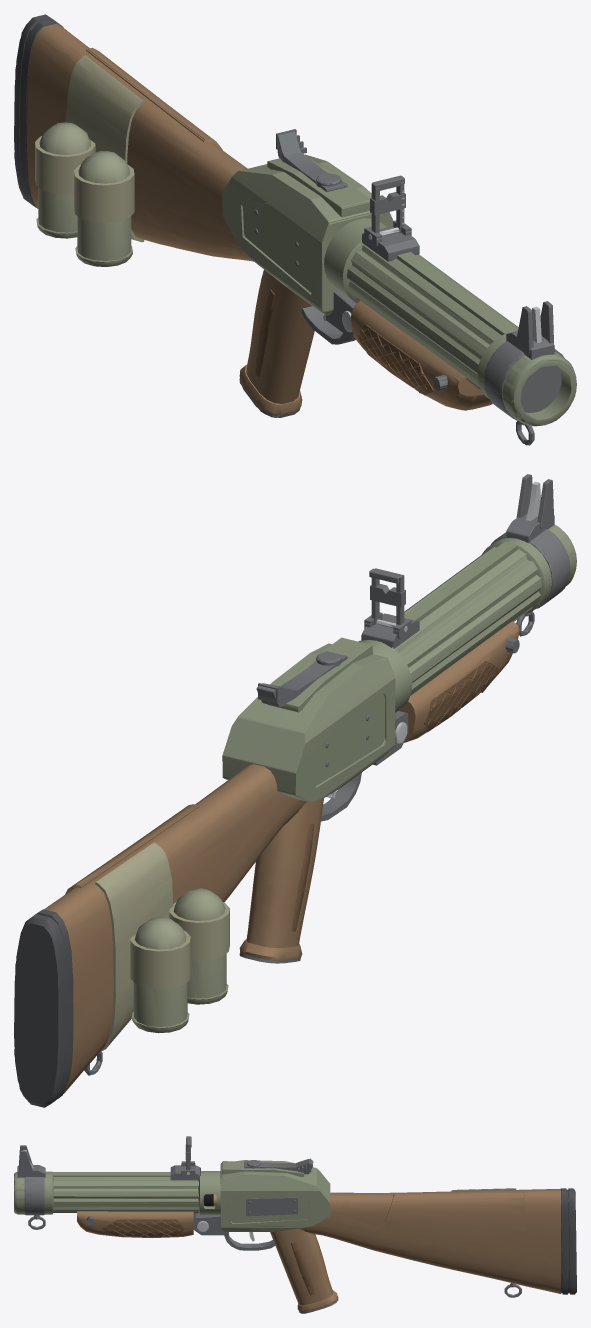
3 views of the same model, one above another, from view 1: azimuth 30°, elevation 25°; view 2: azimuth 150°, elevation 25°; view 3: azimuth 270°, elevation 25° (orthographic). The views are drawn at different scales.
Parts seen in each view (by area): view 1: body, lod, detail; view 2: body, lod, detail; view 3: body, lod, detail.
Boxes of the visible parts, bbox=[...] form: body: bbox=[14, 14, 576, 445]; lod: bbox=[14, 14, 576, 445]; detail: bbox=[254, 129, 433, 395]; body: bbox=[14, 474, 576, 1107]; lod: bbox=[14, 474, 576, 1102]; detail: bbox=[258, 661, 498, 767]; body: bbox=[14, 1136, 576, 1313]; lod: bbox=[14, 1136, 576, 1313]; detail: bbox=[102, 1158, 311, 1236].
Bounding box in the file's own units: 0.094 × 0.2447 × 0.733.
